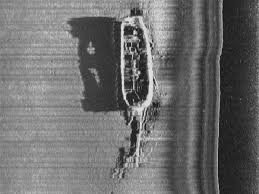ship: (117, 15, 154, 164)
